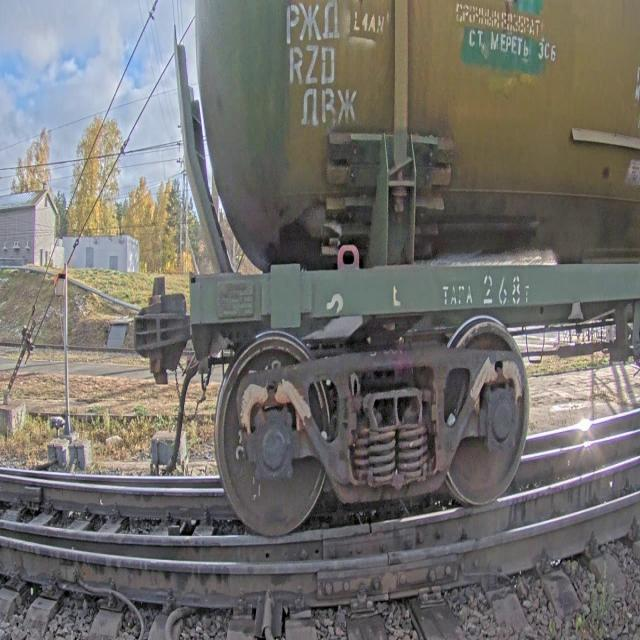tank: (121, 0, 640, 558)
